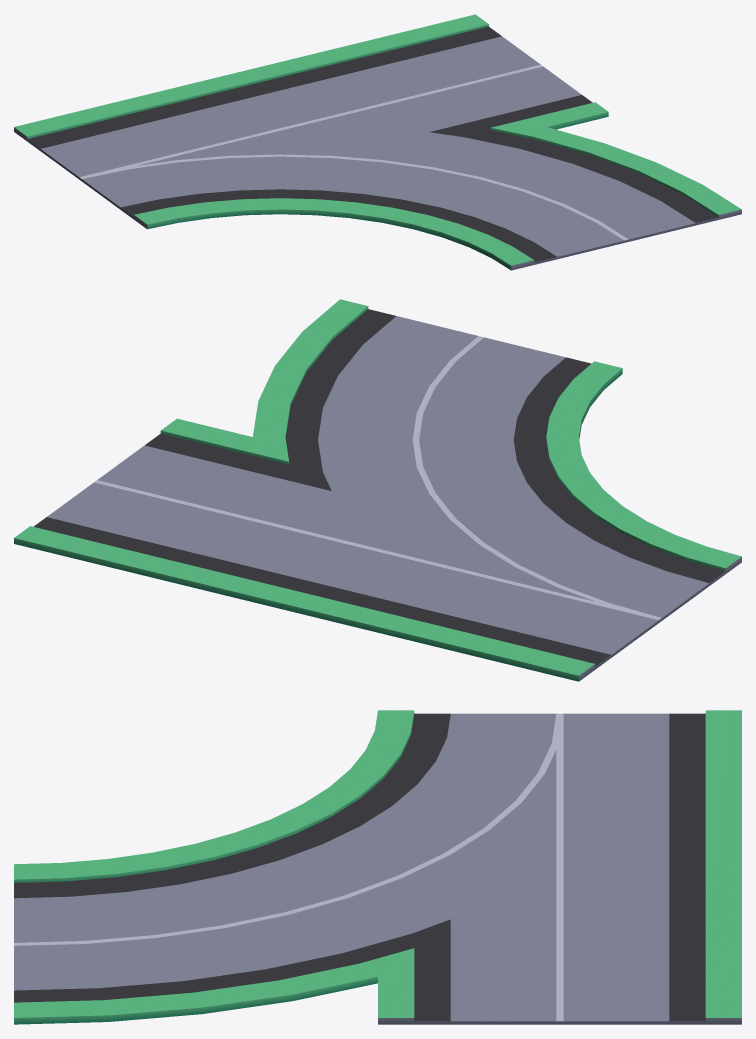
File: road_curve_intersection.glb
The picture shows the model from 3 angles, top to bottom: view 1: azimuth 30°, elevation 25°; view 2: azimuth 150°, elevation 25°; view 3: azimuth 270°, elevation 25°; orthographic projection. The views are drawn at different scales.
Parts seen in each view (by area): view 1: road-curve-intersection; view 2: road-curve-intersection; view 3: road-curve-intersection.
Part boxes in pixels (<box>): road-curve-intersection: <box>14,14,741,270</box>; road-curve-intersection: <box>14,299,741,681</box>; road-curve-intersection: <box>14,710,741,1024</box>.
Bounding box in the file's own units: 2 × 0.02 × 2.
Materials: 1 (1 with a texture image).
